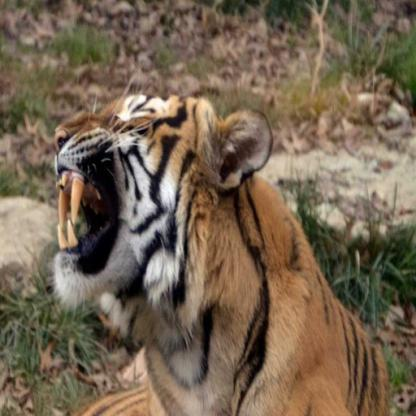Tiger: (36, 73, 412, 415)
